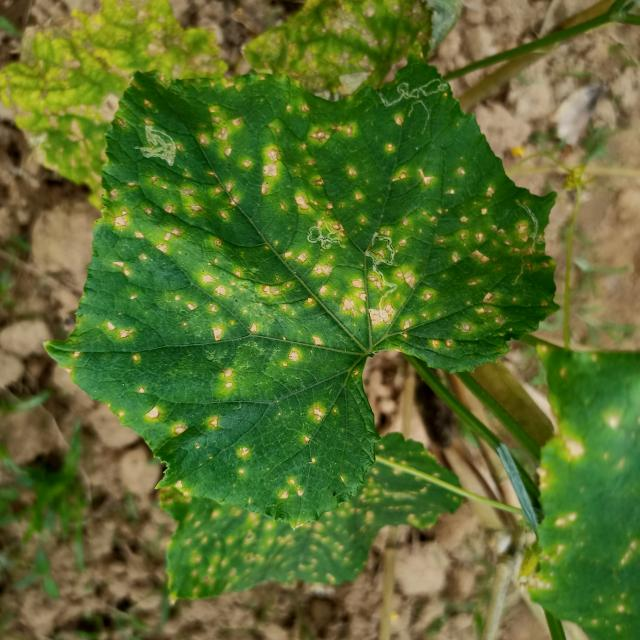disease_cucumber: (85, 94, 549, 352), (301, 399, 340, 446), (279, 334, 328, 370), (169, 414, 225, 438), (135, 384, 162, 422), (234, 439, 254, 478), (217, 361, 240, 392), (279, 476, 304, 503)
